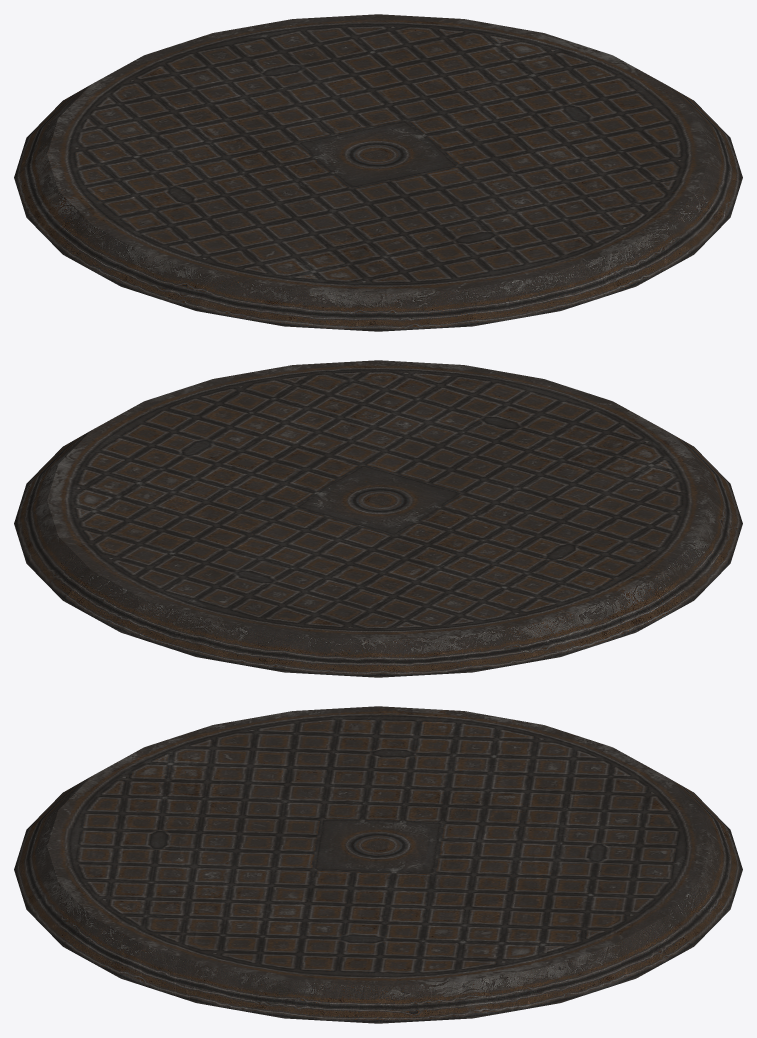
File: manhole.obj
The picture shows the model from 3 angles, top to bottom: view 1: azimuth 30°, elevation 25°; view 2: azimuth 150°, elevation 25°; view 3: azimuth 270°, elevation 25°; orthographic projection.
Visible parts, largest first — view 1: manhole; view 2: manhole; view 3: manhole.
Boxes of the visible parts, box(x1,y1,x2,y2) form: manhole: box(14, 14, 742, 331); manhole: box(14, 360, 742, 677); manhole: box(14, 706, 742, 1023).
Bounding box in the file's own units: 1.76 × 0.0625 × 1.76.
Materials: 1 (1 with a texture image).
